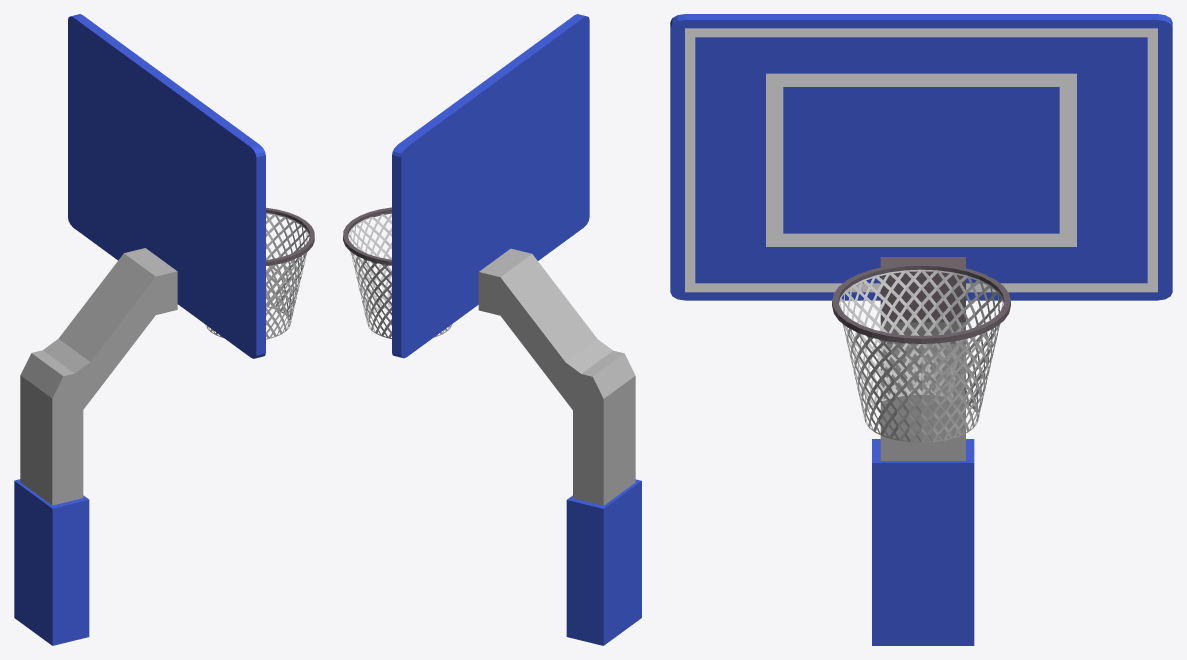
3 renders of one model, left to right at view 1: azimuth 30°, elevation 25°; view 2: azimuth 150°, elevation 25°; view 3: azimuth 270°, elevation 25°, orthographic. The views are drawn at different scales.
Parts seen in each view (by area): view 1: target, pole, plush, basket; view 2: target, pole, plush, basket; view 3: target, plush, basket, pole, support.
Part boxes in pixels (bbox=[...]): target: bbox=[68, 14, 265, 358]; pole: bbox=[20, 248, 177, 505]; plush: bbox=[14, 479, 89, 645]; basket: bbox=[205, 207, 314, 339]; target: bbox=[392, 14, 589, 358]; pole: bbox=[478, 248, 635, 505]; plush: bbox=[566, 479, 641, 645]; basket: bbox=[343, 207, 452, 338]; target: bbox=[670, 14, 1172, 300]; plush: bbox=[872, 439, 974, 645]; basket: bbox=[832, 263, 1010, 442]; pole: bbox=[880, 322, 965, 460]; support: bbox=[880, 257, 965, 322].
Size of what is drawn, in the model's own units: 3.63 by 6.62 by 4.36.
